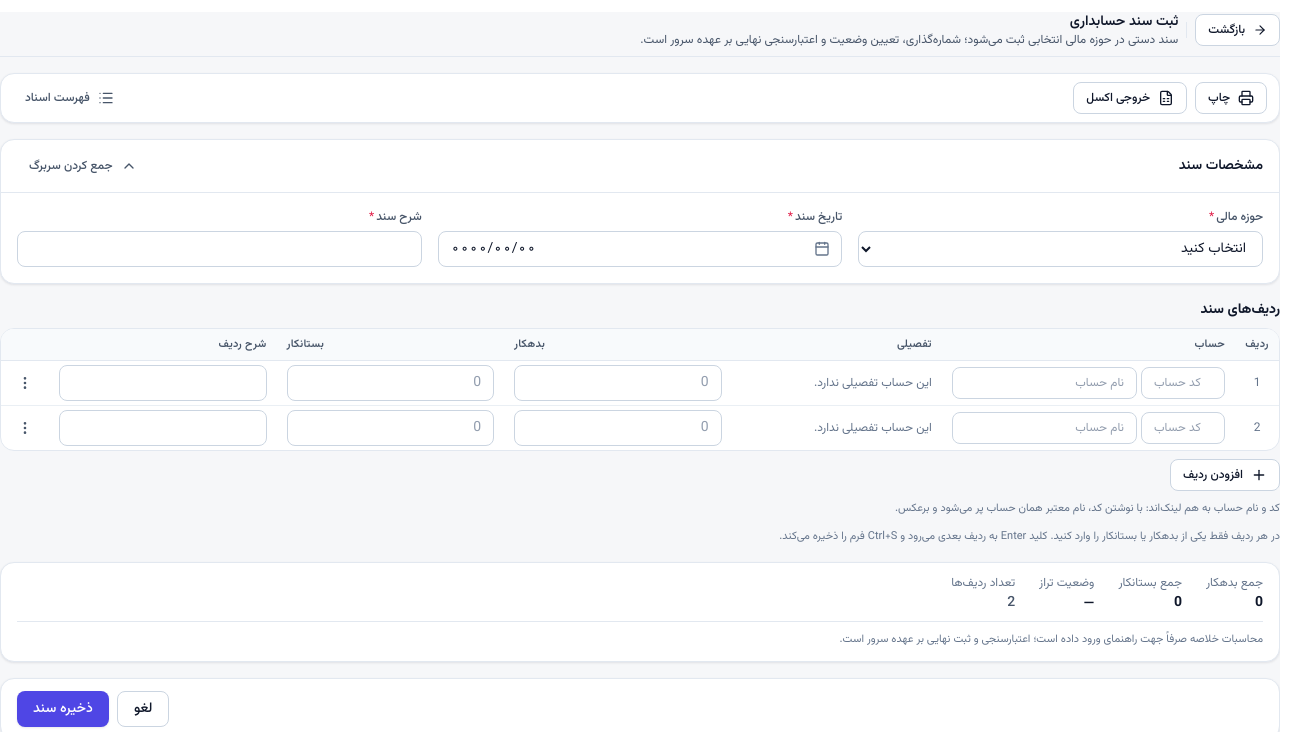
Scenario: Operational Form full user journey — Collapsible Header, Detail Grid, Summary & Dirty Pagination › commits a highlighted suggestion with Enter inside the detail grid
In the 1st field labelled "کد حساب": (1183, 383) [1141,367,1225,399], type "10"
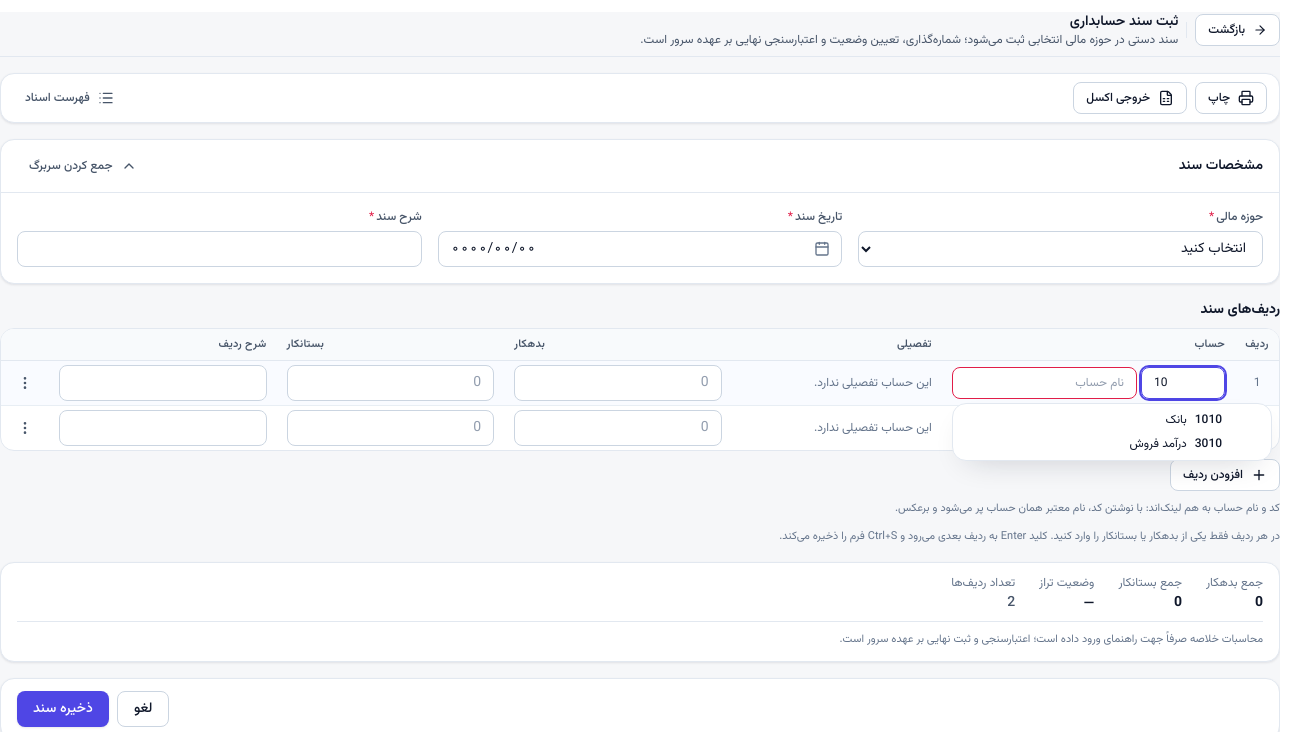
Check: the element with test id "account-suggestions" is shown, box [952,403,1272,461]
Press Arrowdown
Press Enter
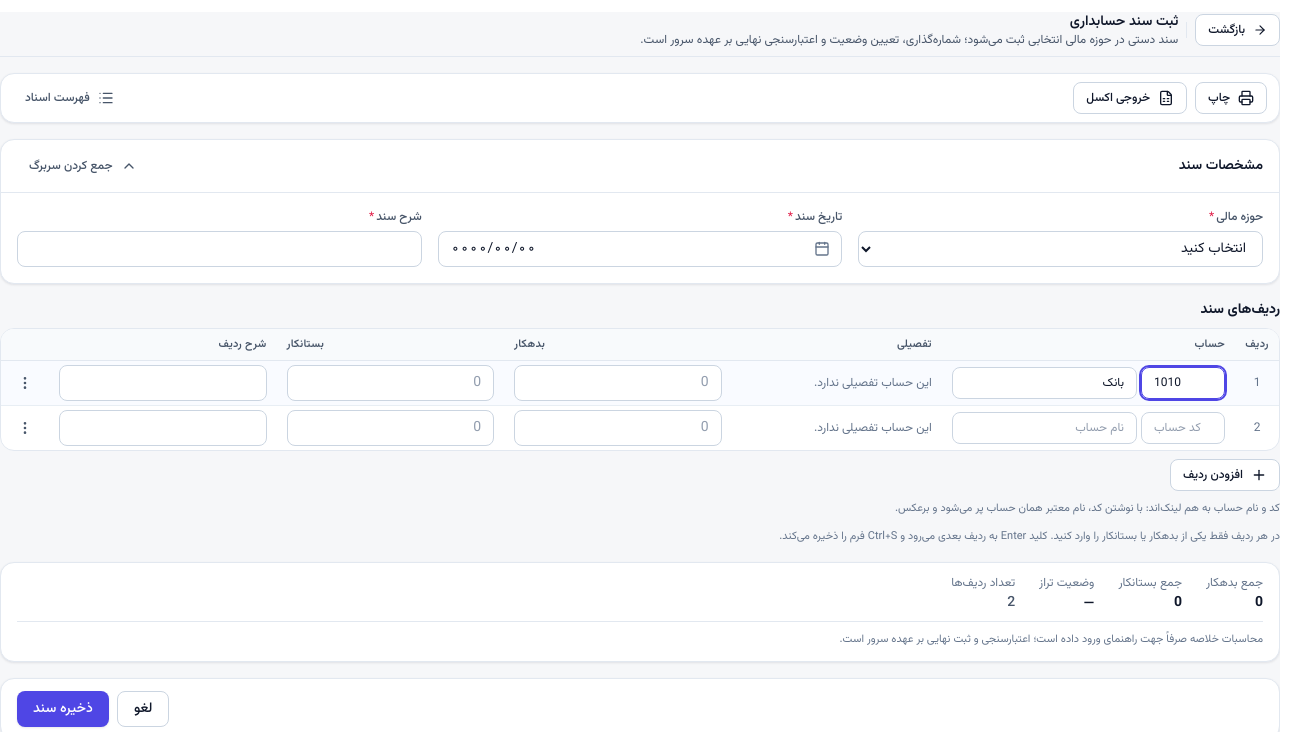
Check: the element with test id "account-suggestions" is gone
Check: the field named "کد حساب" holds "1010", box [1141,367,1225,399]
Check: the field named "نام حساب" holds "بانک", box [952,367,1137,399]
